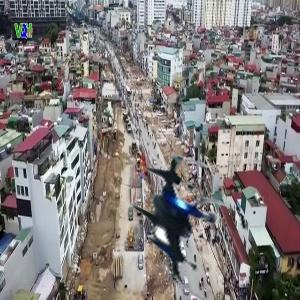drone: (117, 159, 250, 292)
